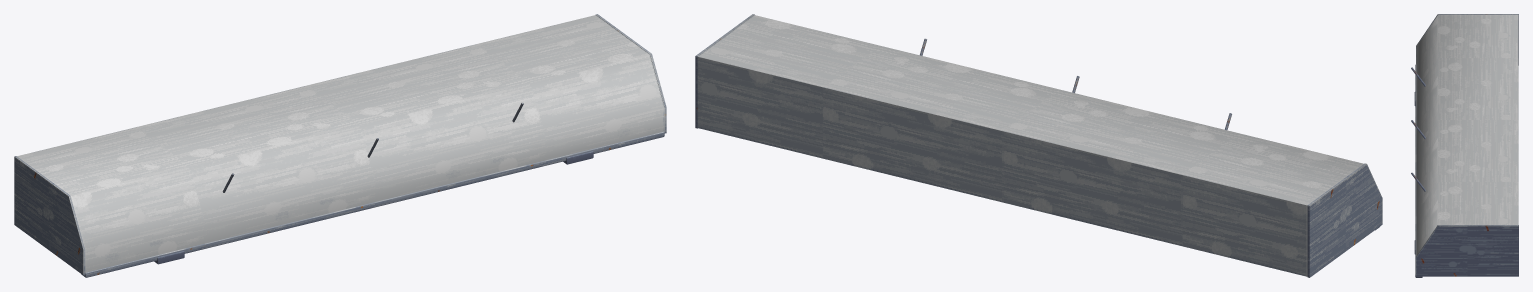
The model's file is range_hood.glb.
3 views of the same model, side by side, from view 1: azimuth 30°, elevation 25°; view 2: azimuth 150°, elevation 25°; view 3: azimuth 270°, elevation 25° (orthographic). The views are drawn at different scales.
Visible parts, largest first — view 1: mesh; view 2: mesh; view 3: mesh.
Part boxes in pixels (left/top/right/bottom): mesh: left=14, top=14, right=666, bottom=277; mesh: left=695, top=14, right=1382, bottom=277; mesh: left=1411, top=14, right=1518, bottom=277.
Bounding box in the file's own units: 3.41 × 0.4202 × 0.7334.
1 material, 1 textured.
